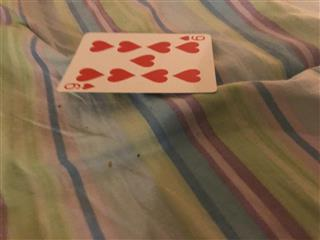NineOfHearts: (55, 31, 217, 93)
